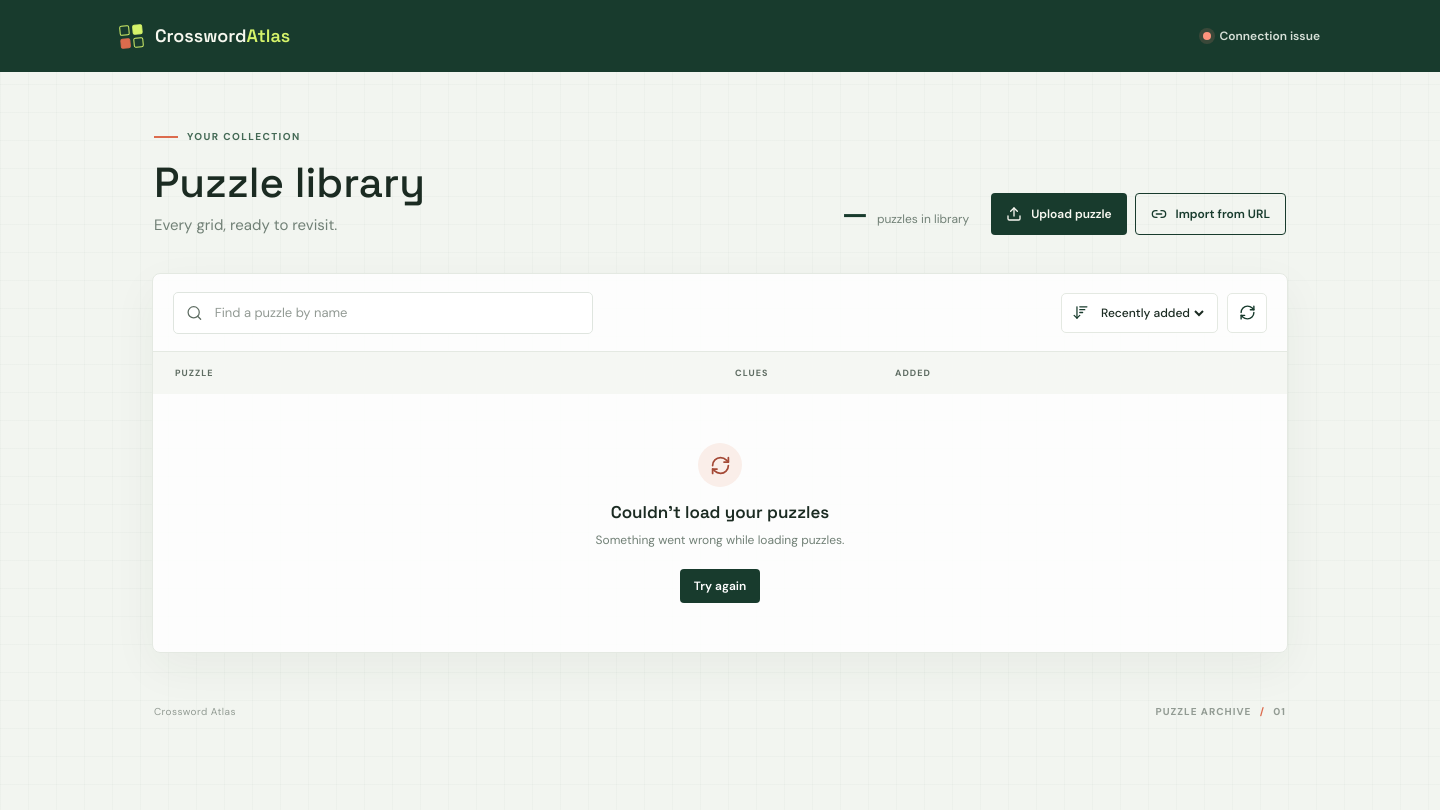
it: shows a fallback load error and retries successfully
expect the text "Something went wrong while loading puzzles." is shown: met, box [596,532,844,551]
expect the text "Connection issue" is shown: met, box [1220,28,1320,44]
Click the button "Try again" at (720, 586), box [680,569,760,603]
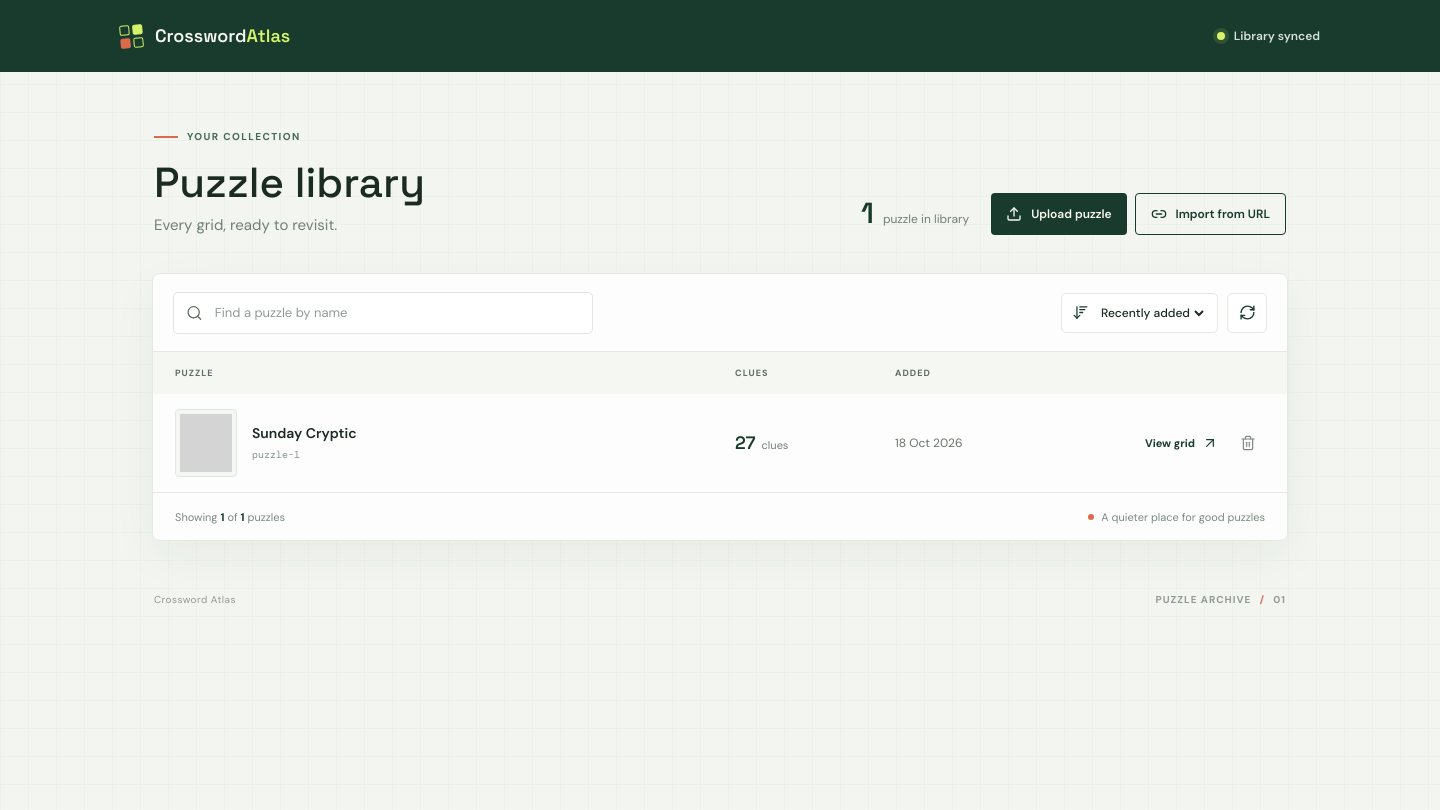
expect the heading "Sunday Cryptic" is shown: met, box [252,424,357,443]
